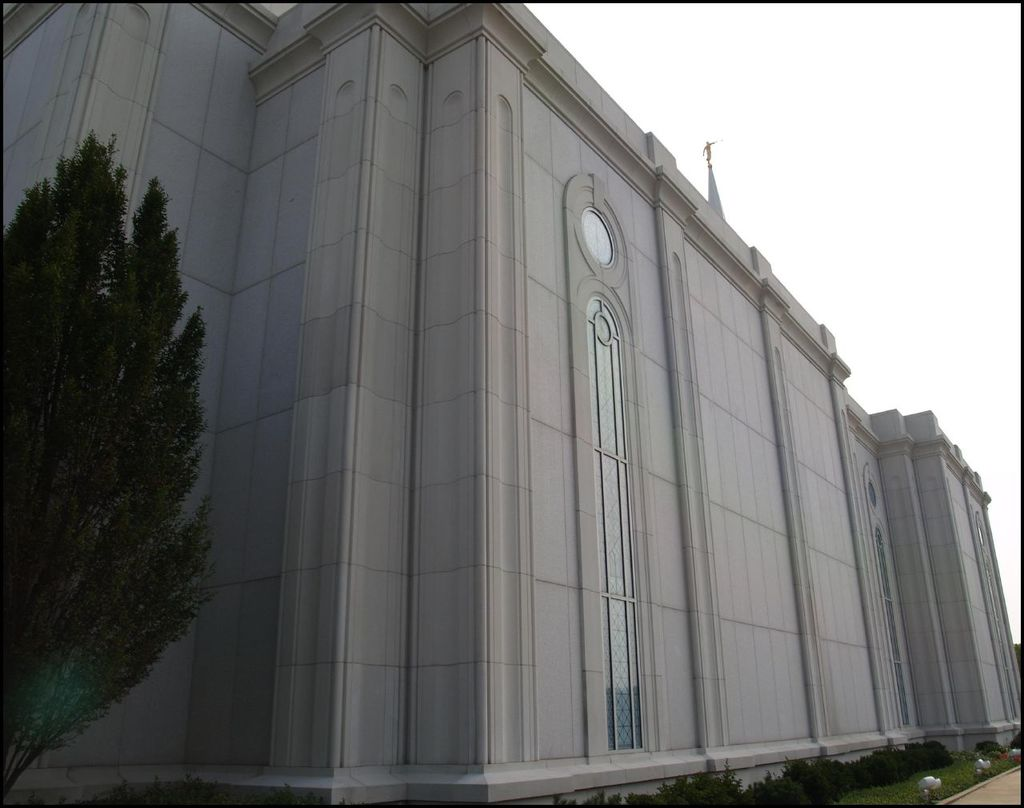Tree: (0, 137, 214, 805)
